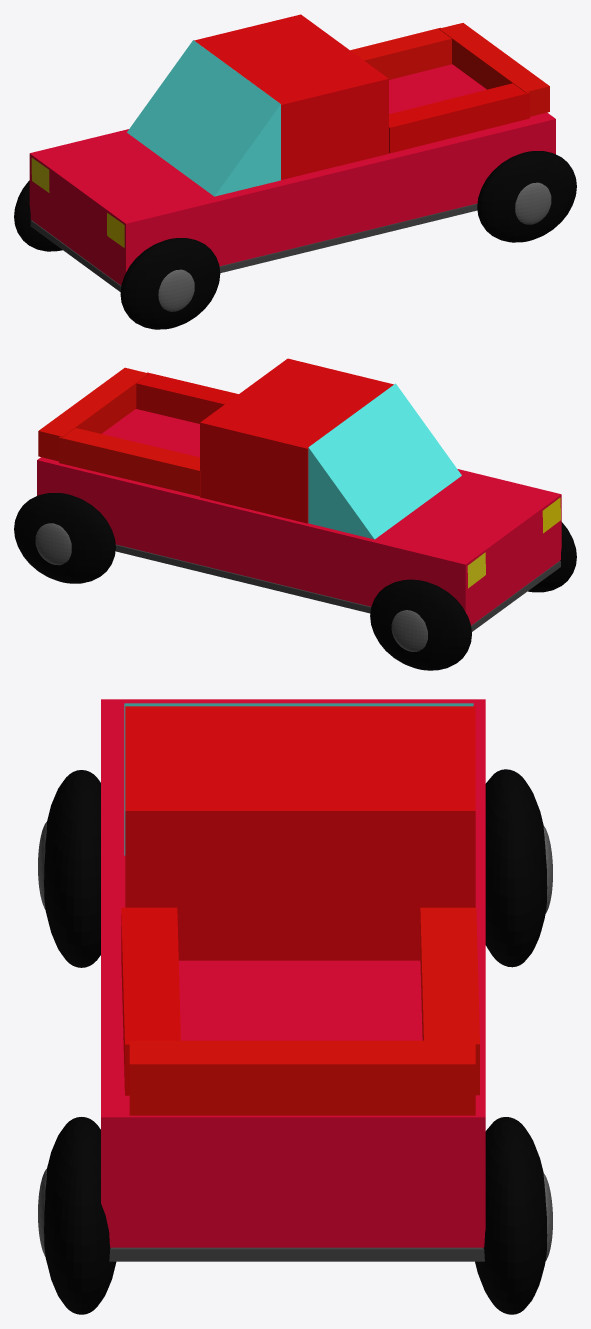
File: Carsocool.glb
3 views of the same model, one above another, from view 1: azimuth 30°, elevation 25°; view 2: azimuth 150°, elevation 25°; view 3: azimuth 270°, elevation 25° (orthographic). The views are drawn at different scales.
Visible parts, largest first — view 1: Cube.001, Cube.003, Cube.002, Sphere, Sphere.001, Cube.005, Cube.004, Cube.006, Cube, Sphere.003, Plane, Plane.001; view 2: Cube.001, Cube.003, Cube.002, Sphere.003, Sphere.002, Cube.006, Cube.004, Cube.005, Cube, Sphere, Plane, Plane.001; view 3: Cube.001, Cube.003, Cube.004, Sphere.002, Sphere.003, Sphere.001, Sphere, Cube.005, Cube.006, Cube, Cube.002.
Part boxes in pixels (left/top/right/bottom): Cube.001: left=29, top=64, right=555, bottom=285; Cube.003: left=194, top=14, right=388, bottom=179; Cube.002: left=127, top=40, right=280, bottom=196; Sphere: left=120, top=238, right=220, bottom=329; Sphere.001: left=477, top=151, right=576, bottom=242; Cube.005: left=389, top=83, right=529, bottom=153; Cube.004: left=439, top=23, right=549, bottom=116; Cube.006: left=350, top=27, right=451, bottom=79; Cube: left=30, top=203, right=477, bottom=291; Sphere.003: left=14, top=180, right=62, bottom=251; Plane: left=31, top=158, right=49, bottom=192; Plane.001: left=107, top=213, right=124, bottom=247; Cube.001: left=37, top=409, right=561, bottom=625; Cube.003: left=200, top=358, right=393, bottom=523; Cube.002: left=308, top=383, right=461, bottom=539; Sphere.003: left=370, top=579, right=471, bottom=670; Sphere.002: left=14, top=493, right=115, bottom=583; Cube.006: left=59, top=428, right=200, bottom=496; Cube.004: left=38, top=367, right=148, bottom=461; Cube.005: left=136, top=372, right=238, bottom=423; Cube: left=115, top=544, right=560, bottom=631; Sphere: left=528, top=522, right=576, bottom=592; Plane: left=467, top=552, right=485, bottom=588; Plane.001: left=542, top=497, right=560, bottom=533; Cube.001: left=101, top=699, right=485, bottom=1247; Cube.003: left=125, top=706, right=475, bottom=960; Cube.004: left=129, top=1040, right=475, bottom=1115; Sphere.002: left=475, top=1117, right=552, bottom=1314; Sphere.003: left=485, top=769, right=552, bottom=967; Sphere.001: left=38, top=1117, right=116, bottom=1314; Sphere: left=38, top=770, right=100, bottom=967; Cube.005: left=121, top=907, right=180, bottom=1095; Cube.006: left=420, top=907, right=479, bottom=1095; Cube: left=109, top=1247, right=484, bottom=1261; Cube.002: left=124, top=703, right=473, bottom=855.
Size of the model in its own units: 4.07 by 1.59 by 2.
